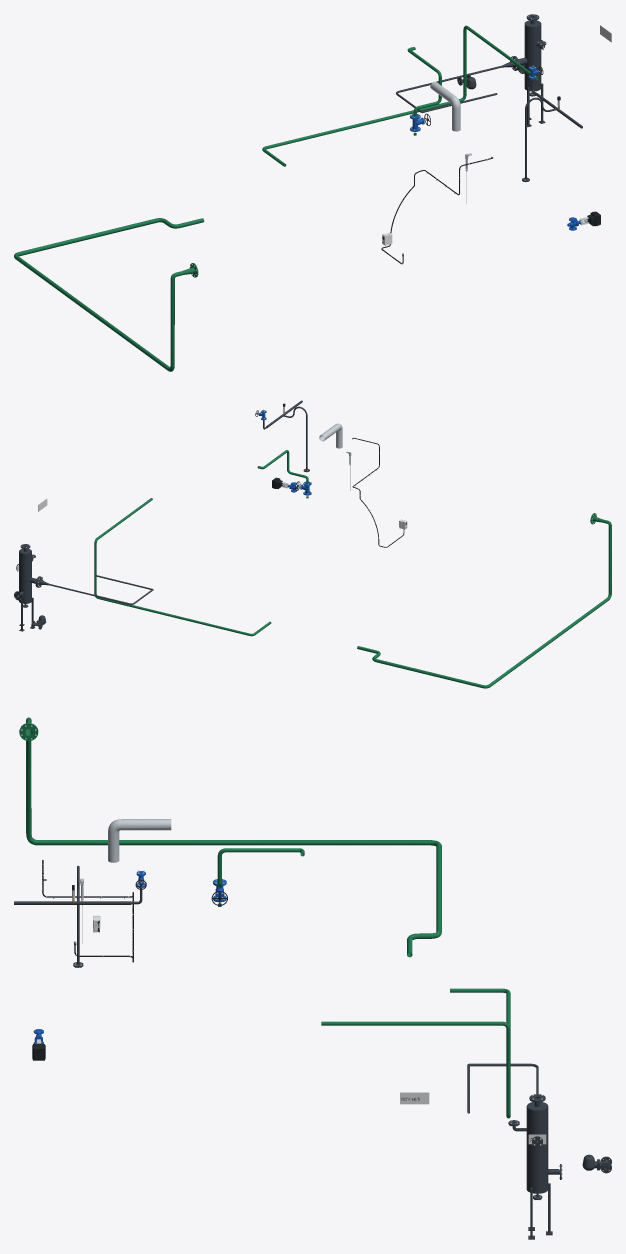
The model's file is s4000-5-CZXNC1Qu.glb.
The picture shows the model from 3 angles, top to bottom: view 1: azimuth 30°, elevation 25°; view 2: azimuth 150°, elevation 25°; view 3: azimuth 270°, elevation 25°; orthographic projection. The views are drawn at different scales.
Parts seen in each view (by area): view 1: deaerator_feed / green, separator_fv8 / dark, to_economizer / green, steam_rise / steel, pressure_header / dark; view 2: deaerator_feed / green, separator_fv8 / dark, to_economizer / green; view 3: deaerator_feed / green, separator_fv8 / dark, to_economizer / green, steam_rise / steel, pressure_header / dark.
Boxes of the visible parts, bbox=[...] form: deaerator_feed / green: bbox=[14, 218, 204, 371]; separator_fv8 / dark: bbox=[514, 14, 546, 127]; to_economizer / green: bbox=[262, 25, 538, 166]; steam_rise / steel: bbox=[430, 81, 460, 131]; pressure_header / dark: bbox=[522, 79, 582, 181]; deaerator_feed / green: bbox=[357, 513, 611, 688]; separator_fv8 / dark: bbox=[14, 544, 40, 631]; to_economizer / green: bbox=[94, 498, 271, 636]; deaerator_feed / green: bbox=[19, 717, 441, 957]; separator_fv8 / dark: bbox=[508, 1094, 561, 1239]; to_economizer / green: bbox=[321, 988, 510, 1118]; steam_rise / steel: bbox=[108, 819, 171, 862]; pressure_header / dark: bbox=[14, 865, 142, 967].
Size of the model in its own units: 8.87 by 2.97 by 6.08.
